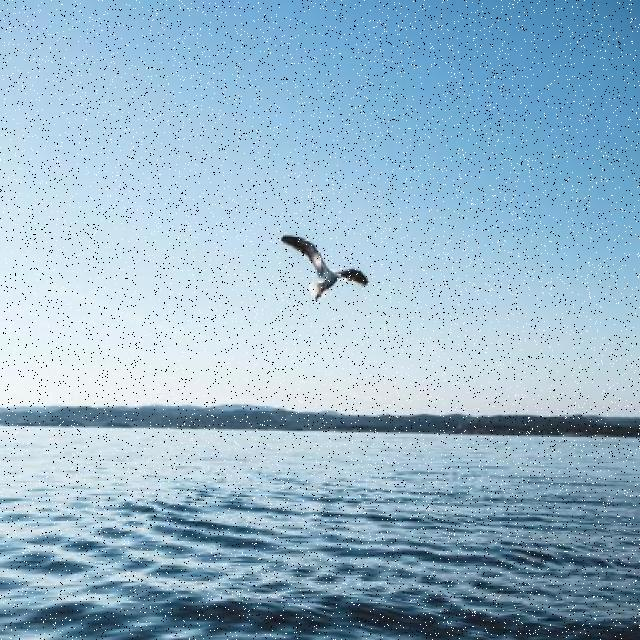bird: (279, 234, 370, 302)
